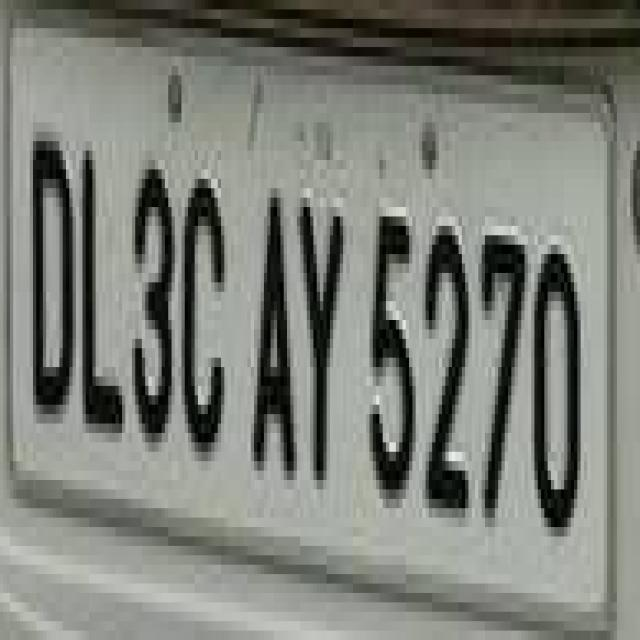license_plate: (0, 38, 614, 574)
